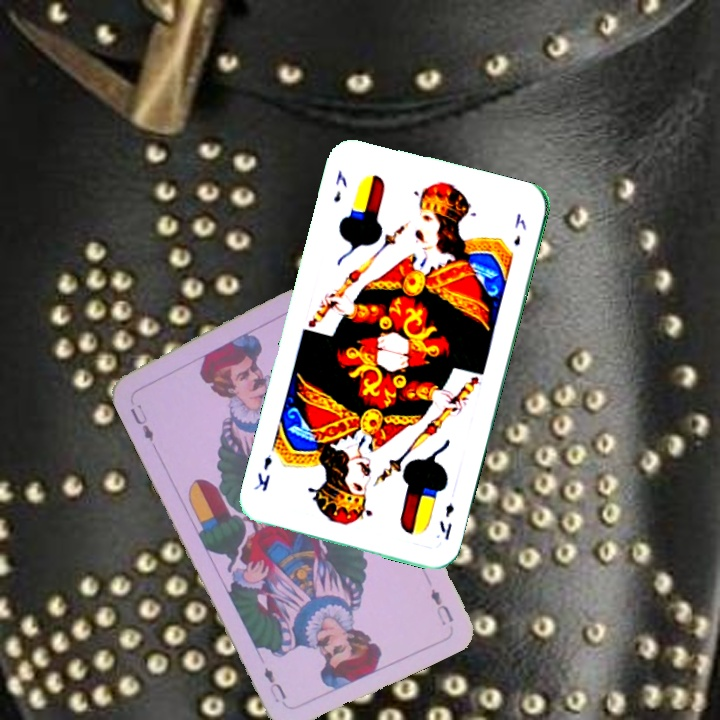EK: (435, 499, 457, 542), (329, 166, 350, 205)
EU: (426, 584, 457, 629), (126, 400, 156, 445)
